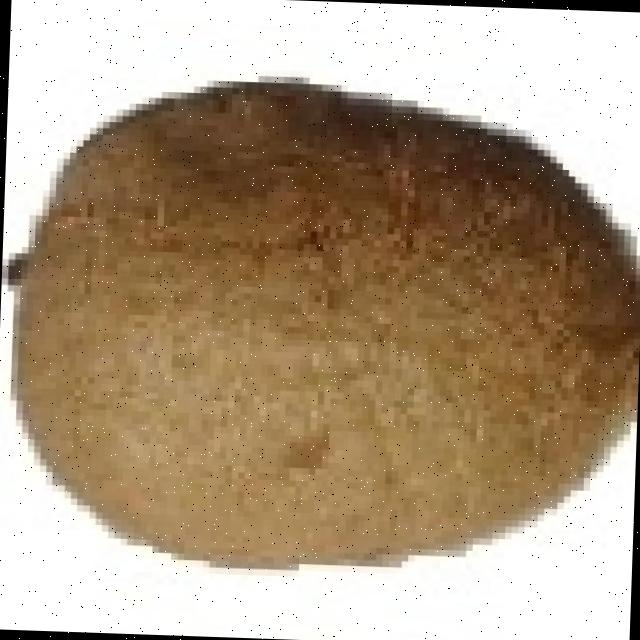kiwi: (1, 93, 628, 571)
